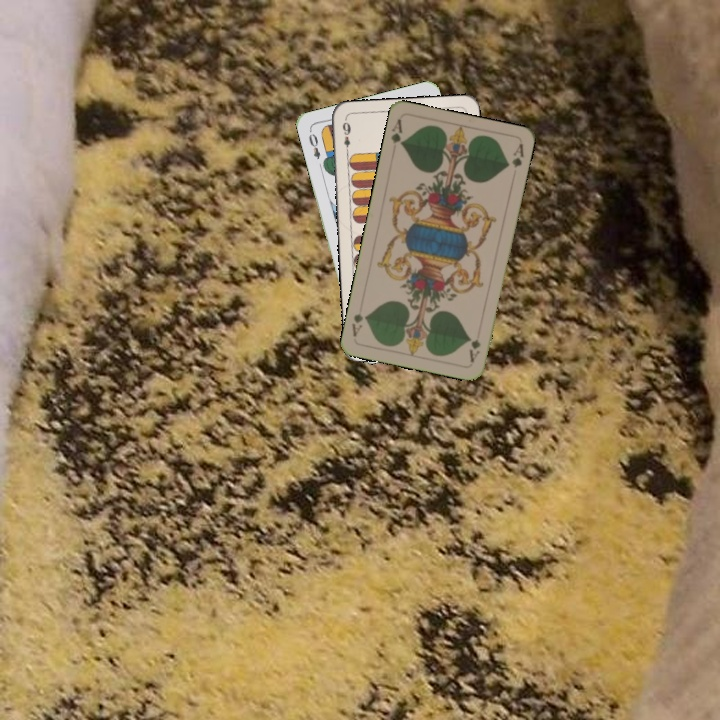E9: (339, 118, 353, 157)
EO: (305, 126, 323, 162)
GA: (465, 325, 483, 365), (387, 115, 407, 149)
